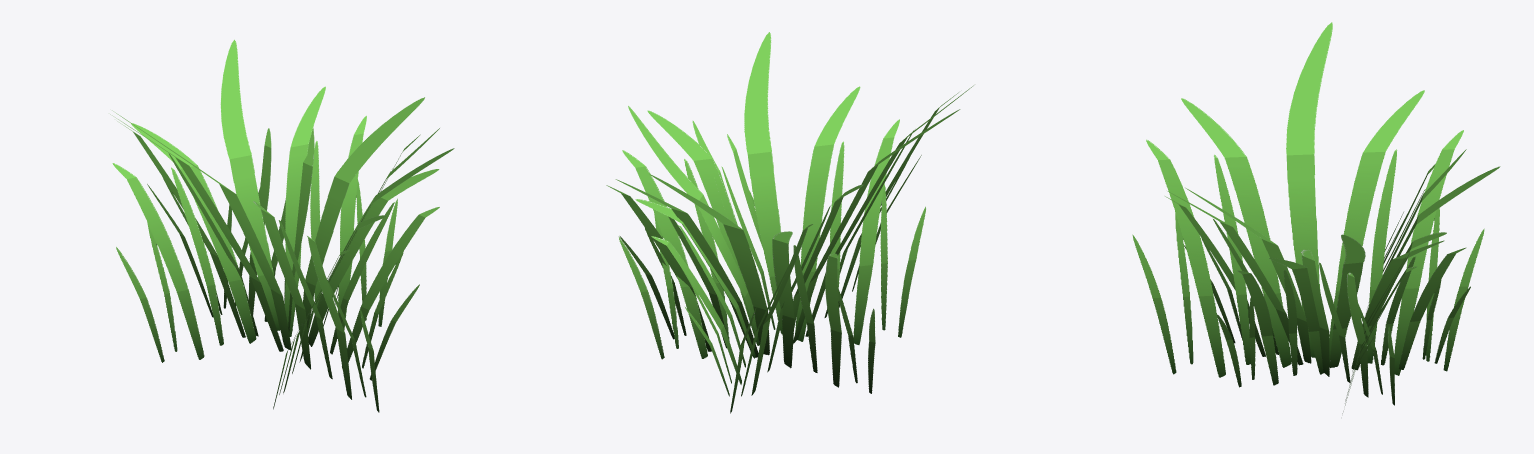
The model's file is garss.fbx.
3 views of the same model, side by side, from view 1: azimuth 30°, elevation 25°; view 2: azimuth 150°, elevation 25°; view 3: azimuth 270°, elevation 25° (orthographic). The views are drawn at different scales.
Visible parts, largest first — view 1: Plane.001; view 2: Plane.001; view 3: Plane.001.
Part boxes in pixels (x1,y1,x2,y2): Plane.001: [110, 39, 454, 412]; Plane.001: [606, 32, 973, 413]; Plane.001: [1132, 22, 1500, 413].
Bounding box in the file's own units: 276 × 280 × 200.
